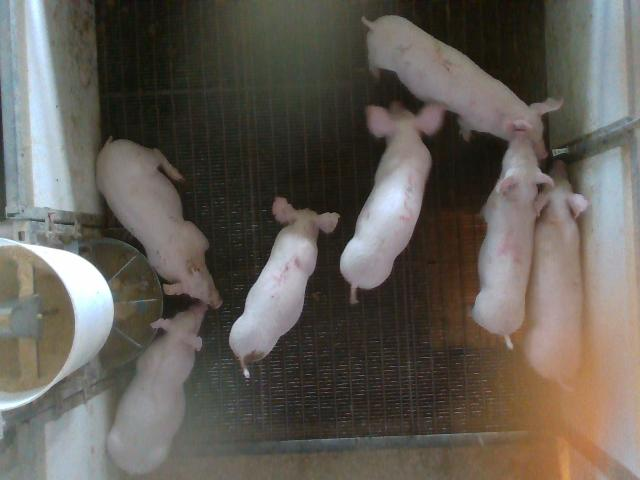pig-3: (340, 102, 445, 303)
pig-4: (471, 131, 552, 348)
pig-5: (229, 198, 339, 377)
